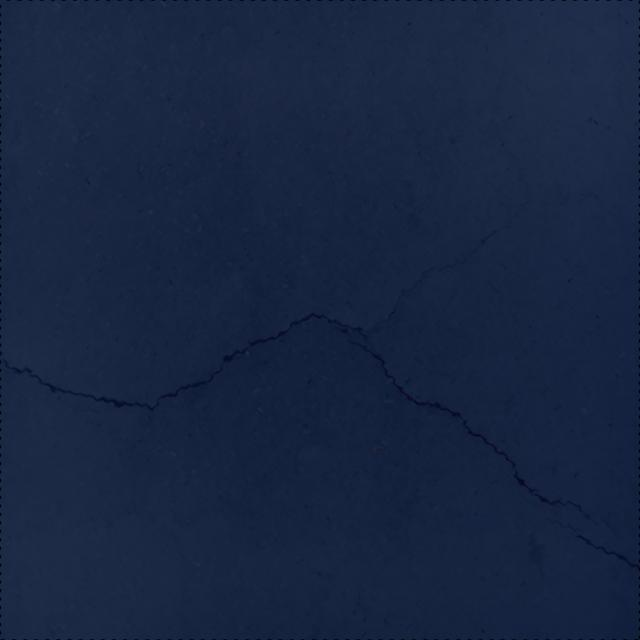crack: (0, 11, 630, 544), (534, 518, 640, 570)
